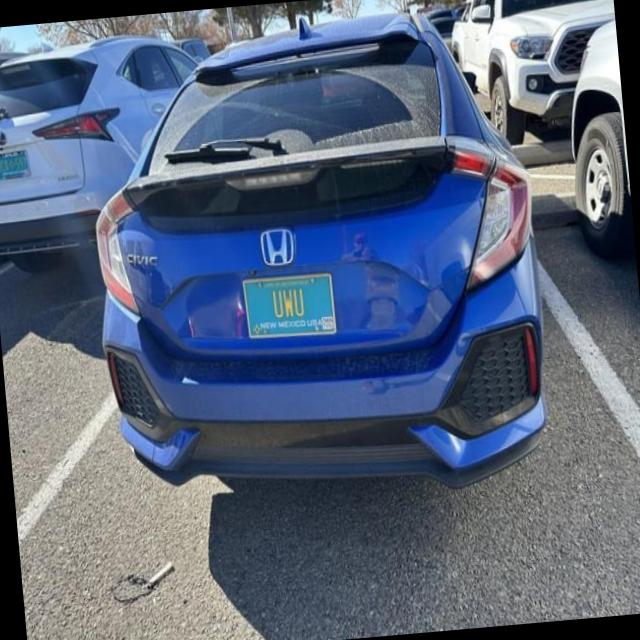LicensePlate: (242, 272, 337, 338)
